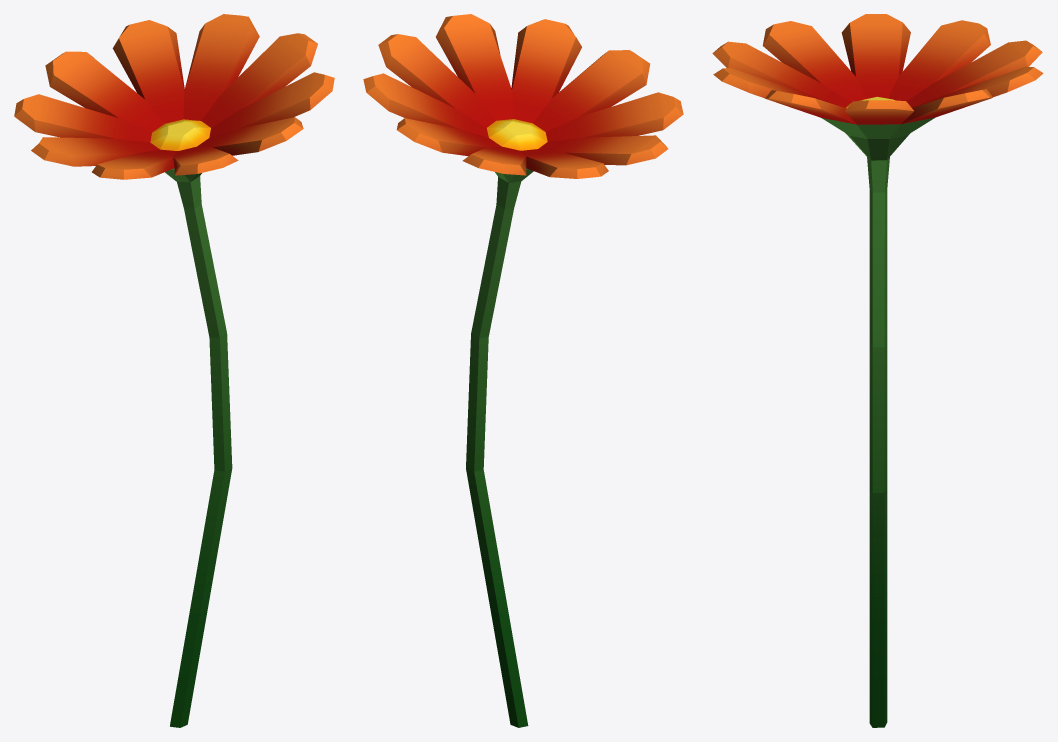
File: Flower_Red_02.fbx
3 views of the same model, side by side, from view 1: azimuth 30°, elevation 25°; view 2: azimuth 150°, elevation 25°; view 3: azimuth 270°, elevation 25° (orthographic). The views are drawn at different scales.
Visible parts, largest first — view 1: Flower_Red_02; view 2: Flower_Red_02; view 3: Flower_Red_02.
Boxes of the visible parts, x1,y1,x2,y2 form: Flower_Red_02: (14,14,334,727); Flower_Red_02: (363,14,683,727); Flower_Red_02: (712,14,1043,727).
Bounding box in the file's own units: 19.75 × 44.87 × 19.58.
